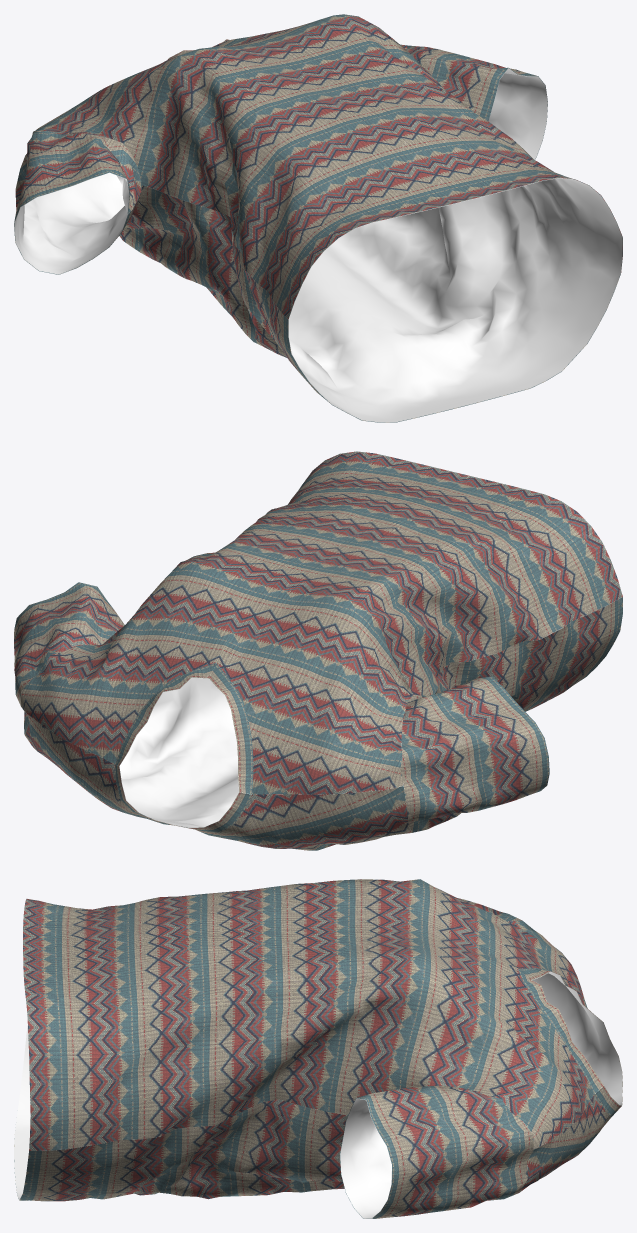
Rendered from female_avg_HHnVGSE.glb.
3 renders of one model, top to bottom at view 1: azimuth 30°, elevation 25°; view 2: azimuth 150°, elevation 25°; view 3: azimuth 270°, elevation 25°, orthographic. The views are drawn at different scales.
Parts seen in each view (by area): view 1: female_avg; view 2: female_avg; view 3: female_avg.
Boxes of the visible parts, x1,y1,x2,y2 form: female_avg: (14, 14, 622, 422); female_avg: (14, 451, 622, 850); female_avg: (14, 879, 622, 1218).
Size of the model in its own units: 0.6313 by 0.2727 by 0.603.
Materials: 2 (1 with a texture image).
